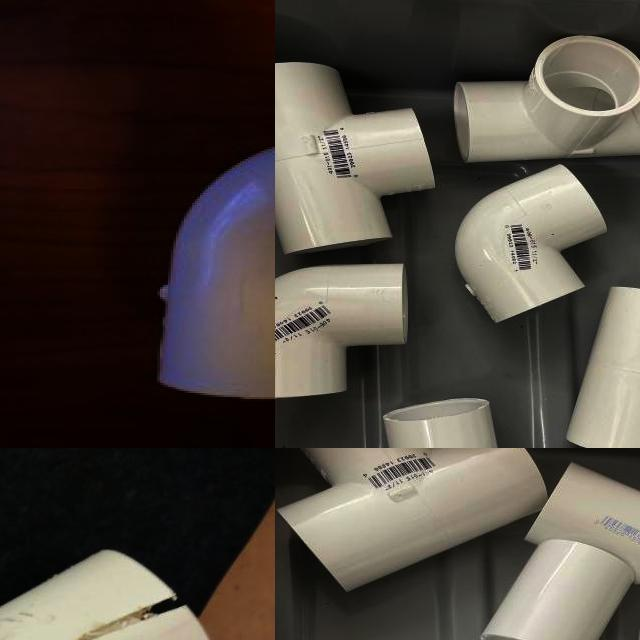Defective: (85, 582, 186, 640), (54, 604, 74, 615)
L Joint: (154, 146, 275, 402), (453, 166, 607, 325), (275, 263, 411, 402)
T Joint: (279, 448, 538, 594), (275, 62, 437, 258), (0, 549, 211, 640), (566, 287, 640, 448)
